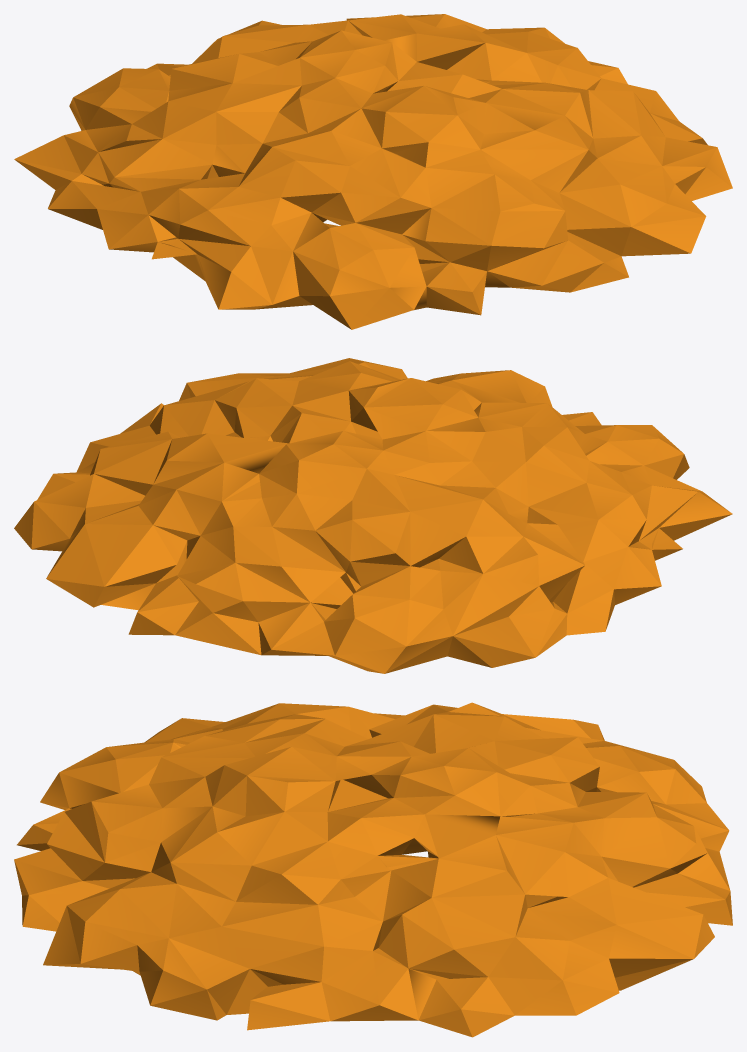
File: marigold_pile.glb
3 views of the same model, one above another, from view 1: azimuth 30°, elevation 25°; view 2: azimuth 150°, elevation 25°; view 3: azimuth 270°, elevation 25° (orthographic). The views are drawn at different scales.
Parts seen in each view (by area): view 1: Mesh_0; view 2: Mesh_0; view 3: Mesh_0.
Part boxes in pixels (left/top/right/bottom): Mesh_0: left=14, top=14, right=732, bottom=329; Mesh_0: left=14, top=358, right=732, bottom=673; Mesh_0: left=14, top=702, right=732, bottom=1037.
Size of the model in its own units: 0.9 by 0.18 by 0.9.
